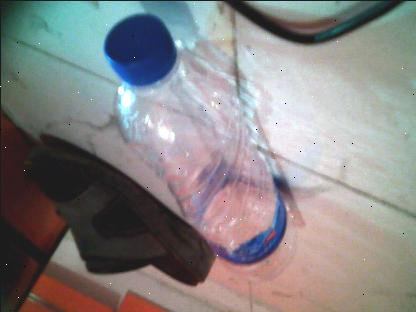Plastic Bottle: (100, 12, 300, 282)
